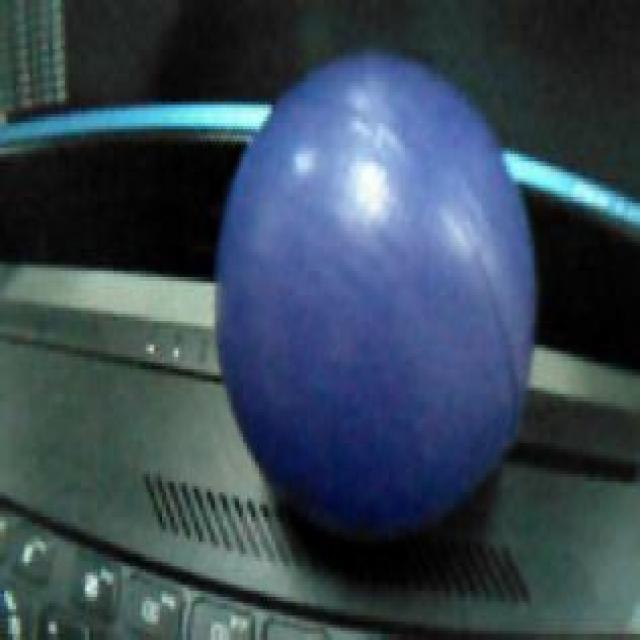BallPurple: (213, 46, 536, 548)
